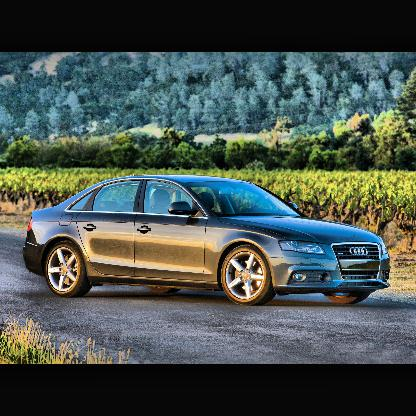Audi S4 Sedan 2007: (25, 176, 391, 306)
